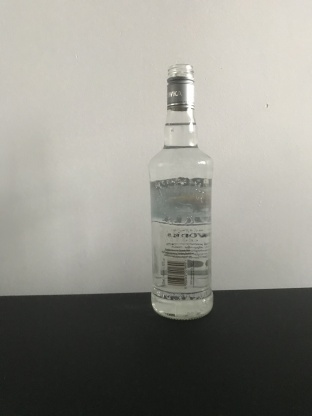nakretka: (165, 62, 196, 111)
